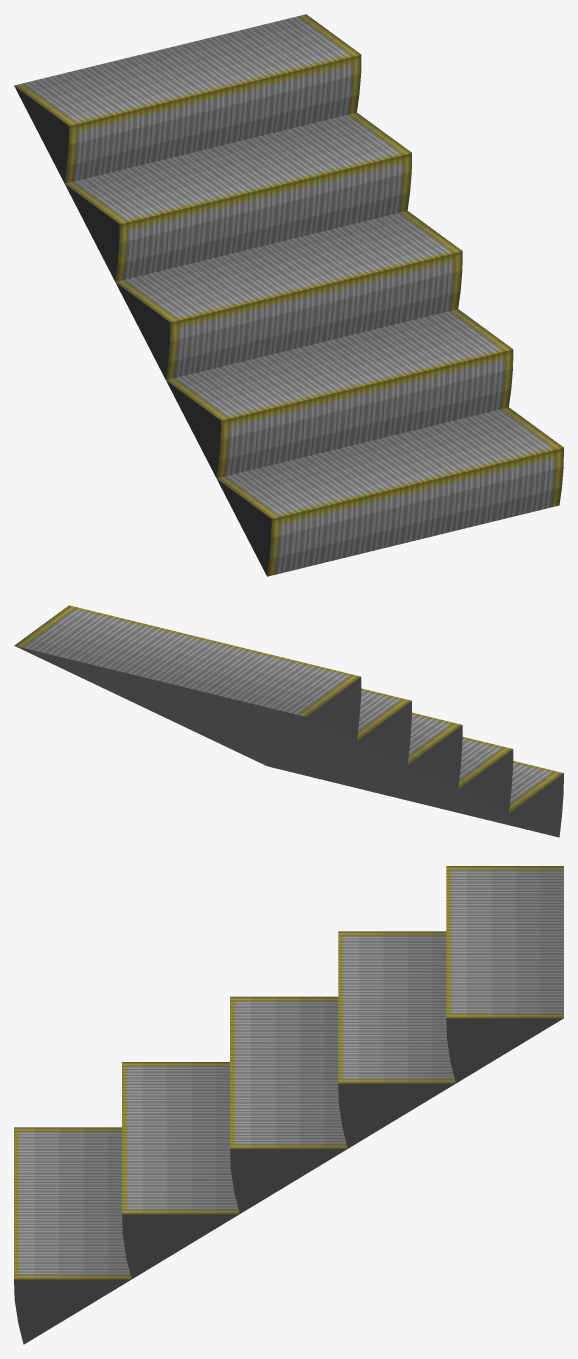
The model's file is SW_ENV_Escalator_5Step.fbx.
3 views of the same model, one above another, from view 1: azimuth 30°, elevation 25°; view 2: azimuth 150°, elevation 25°; view 3: azimuth 270°, elevation 25° (orthographic). The views are drawn at different scales.
Visible parts, largest first — view 1: SW_ENV_Escalator_5Step; view 2: SW_ENV_Escalator_5Step; view 3: SW_ENV_Escalator_5Step.
Part boxes in pixels (left/top/right/bottom): SW_ENV_Escalator_5Step: left=14, top=14, right=563, bottom=576; SW_ENV_Escalator_5Step: left=14, top=605, right=563, bottom=837; SW_ENV_Escalator_5Step: left=14, top=866, right=563, bottom=1344.
Size of the model in its own units: 100 by 100 by 153.
